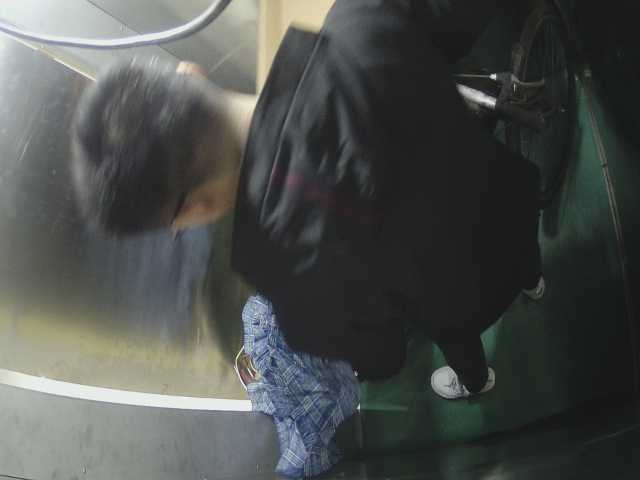person: (62, 37, 564, 385)
